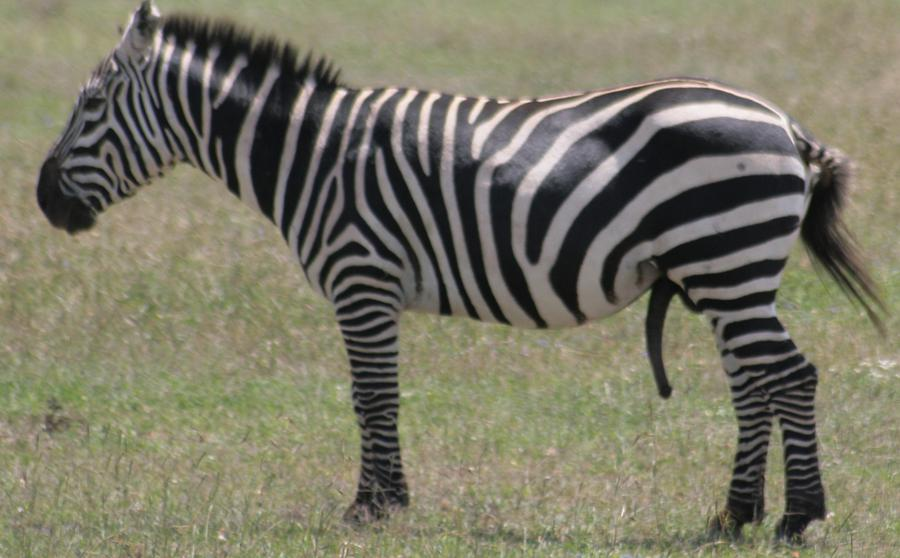zebra_plains: (268, 64, 782, 318)
